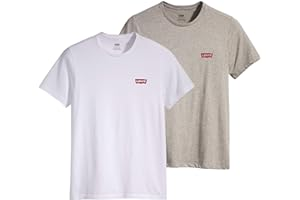design: (199, 51, 213, 60), (133, 77, 148, 85)
